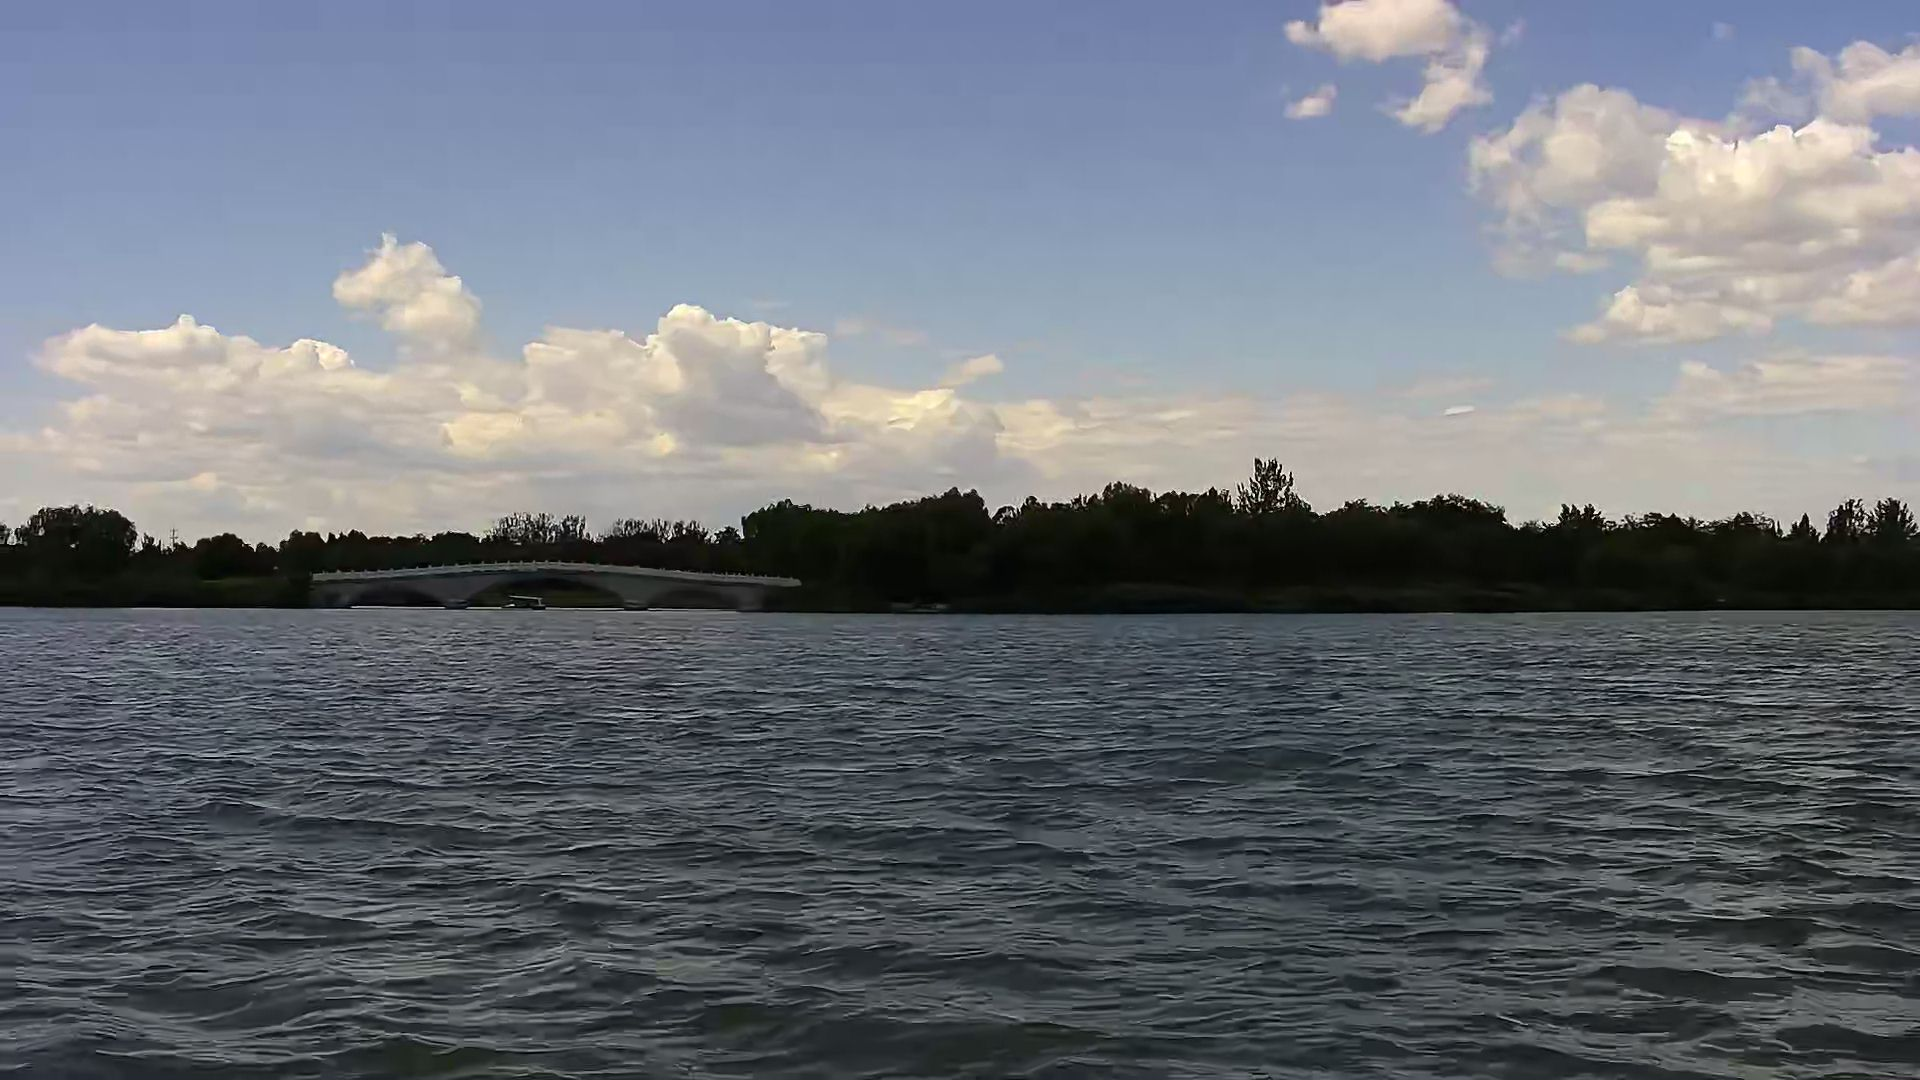boat: (501, 588, 553, 615)
bridge: (311, 555, 804, 618)
